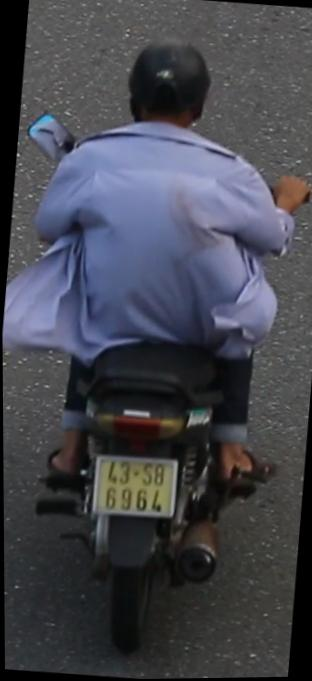LP: (86, 448, 182, 528)
helmet: (118, 29, 218, 149)
